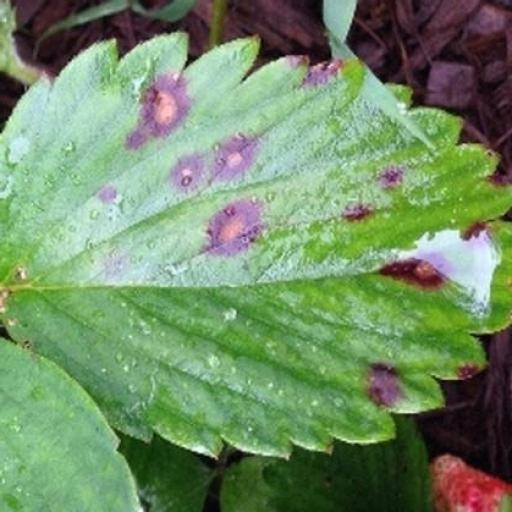Leaf Spot: (0, 50, 511, 479)
